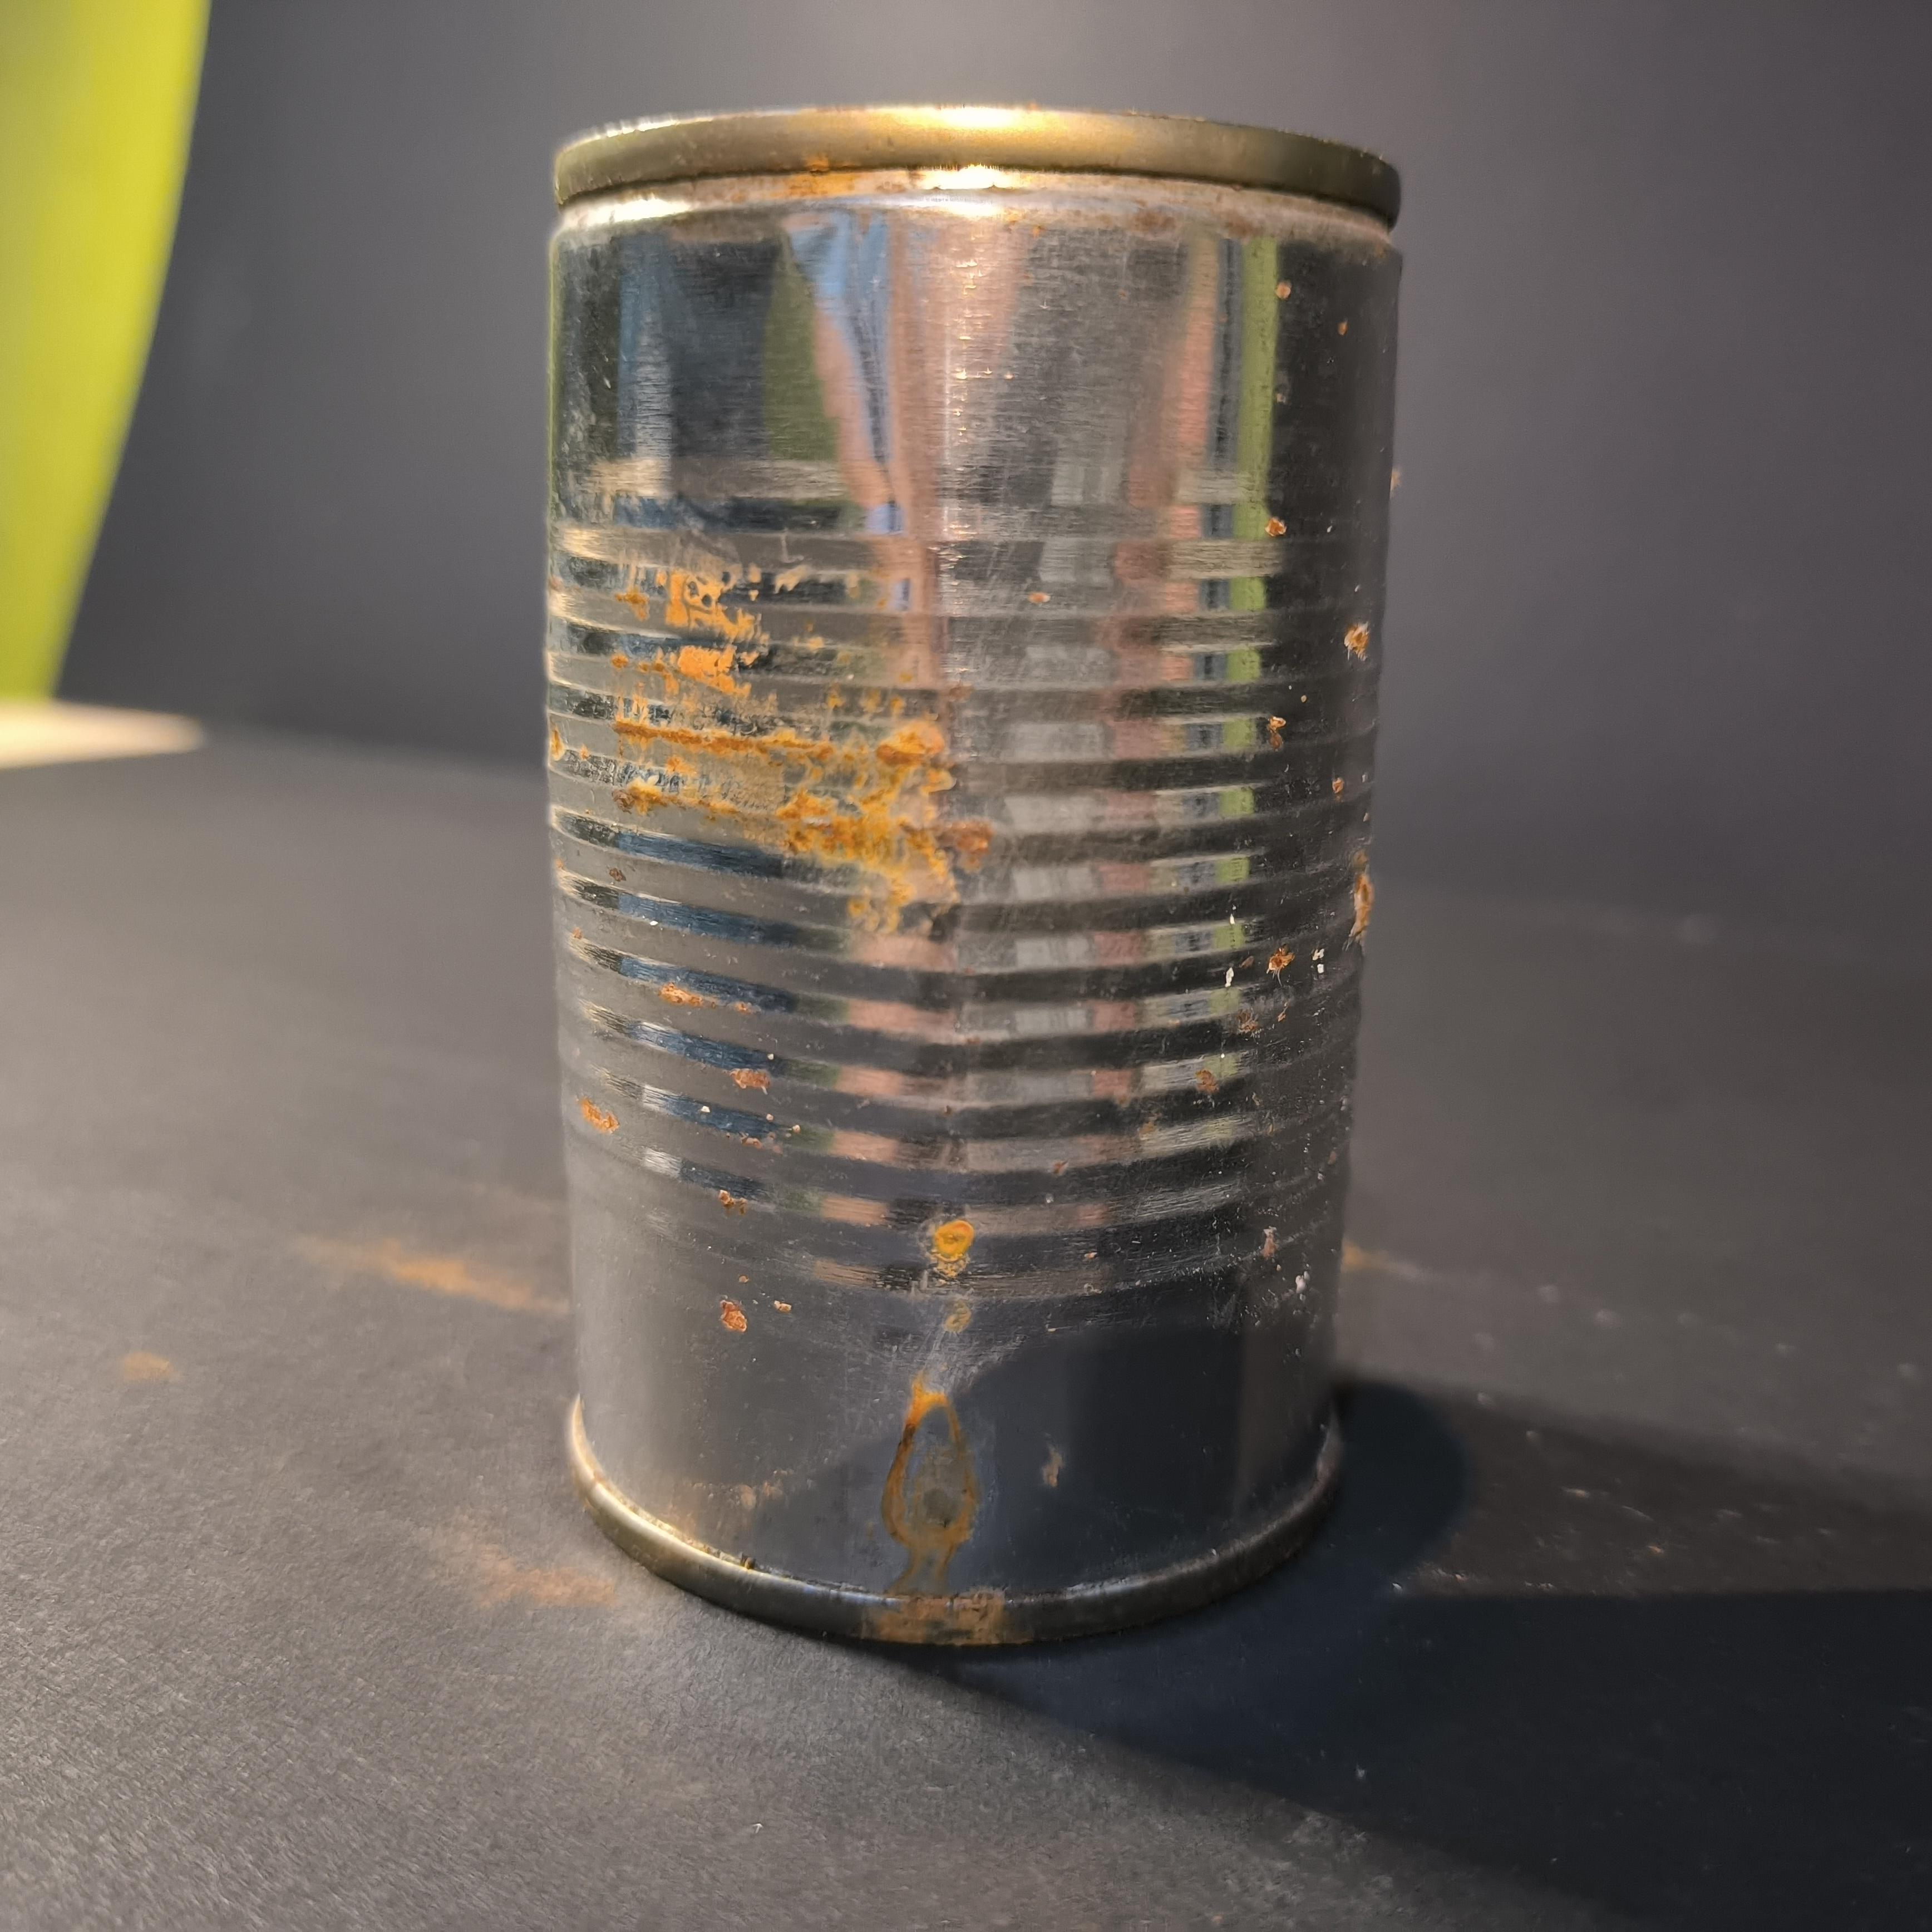Rusted: (515, 74, 1419, 1644)
